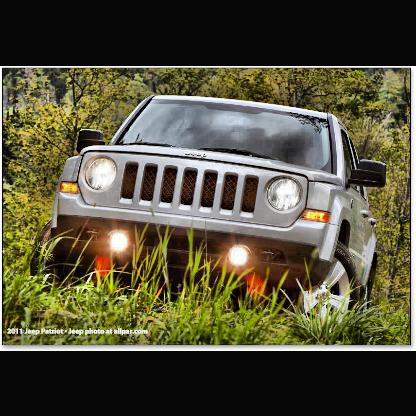Jeep Patriot SUV 2012: (33, 89, 388, 324)
